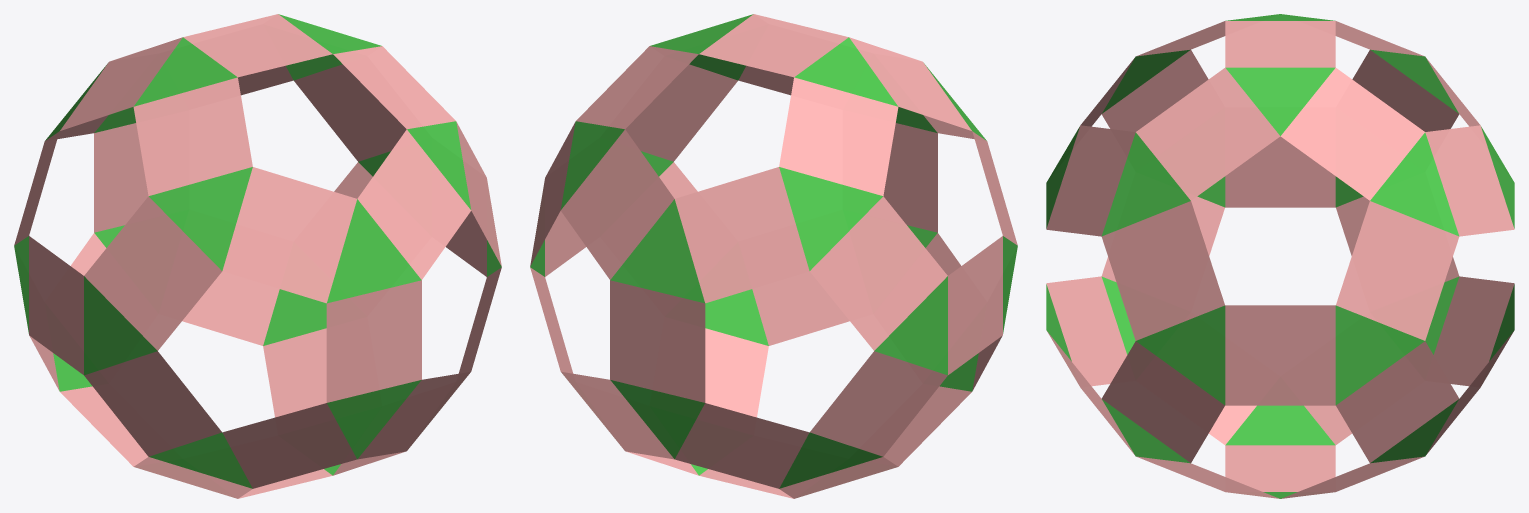
Rendered from RhombicosidodecahedronA.obj.
The picture shows the model from 3 angles, left to right: view 1: azimuth 30°, elevation 25°; view 2: azimuth 150°, elevation 25°; view 3: azimuth 270°, elevation 25°; orthographic projection.
Size of the model in its own units: 4.24 by 4.24 by 4.24.
